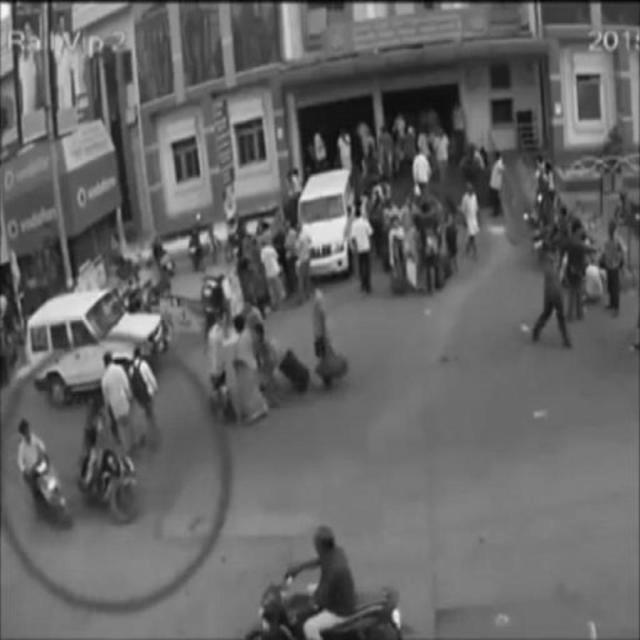person: (530, 246, 570, 354), (229, 314, 267, 424), (102, 348, 137, 449), (307, 276, 335, 392)
vehicle: (249, 524, 407, 640), (27, 289, 167, 402), (79, 402, 141, 526), (14, 418, 75, 529), (300, 169, 354, 275)
